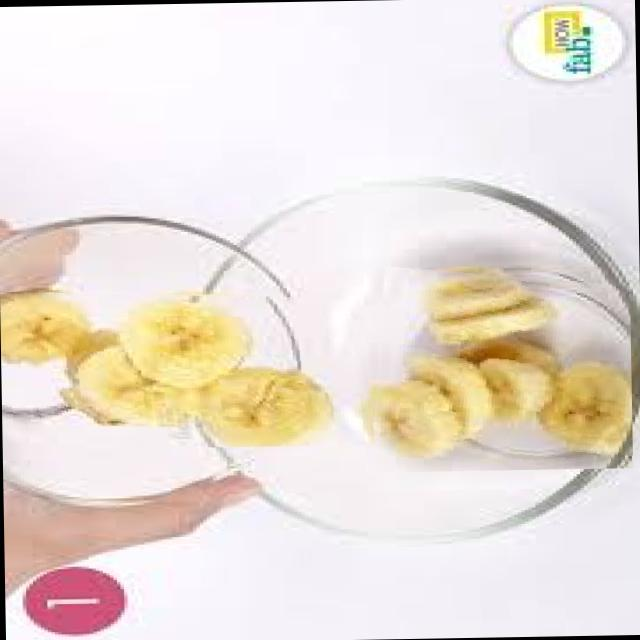Organic: (0, 283, 376, 450), (366, 260, 633, 472)
